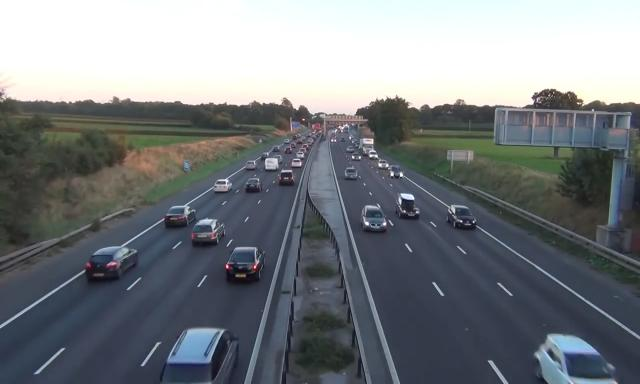caminhaop: (358, 138, 375, 156)
carro: (159, 327, 240, 383), (532, 334, 620, 384), (85, 246, 139, 284), (225, 245, 266, 284), (191, 218, 226, 248), (446, 205, 478, 230), (164, 205, 197, 228), (394, 193, 420, 220), (361, 205, 387, 231), (278, 169, 296, 187), (245, 178, 264, 195), (213, 179, 233, 193), (388, 165, 403, 179), (344, 168, 358, 180), (245, 160, 257, 170), (377, 159, 389, 169), (292, 158, 302, 169), (368, 150, 378, 160), (260, 152, 270, 162), (351, 152, 362, 161), (273, 155, 283, 164), (272, 145, 280, 152), (284, 147, 292, 154), (296, 152, 305, 158), (298, 148, 307, 154), (347, 146, 354, 153), (301, 144, 309, 150), (290, 142, 296, 148), (306, 140, 312, 146), (308, 138, 314, 144), (292, 134, 298, 140), (355, 142, 361, 148), (331, 137, 337, 143), (284, 139, 290, 144), (340, 137, 346, 142), (297, 139, 302, 144)
van: (264, 158, 279, 171)
